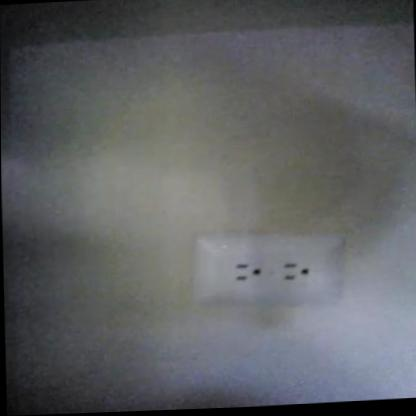OUTLET: (193, 230, 344, 308)
